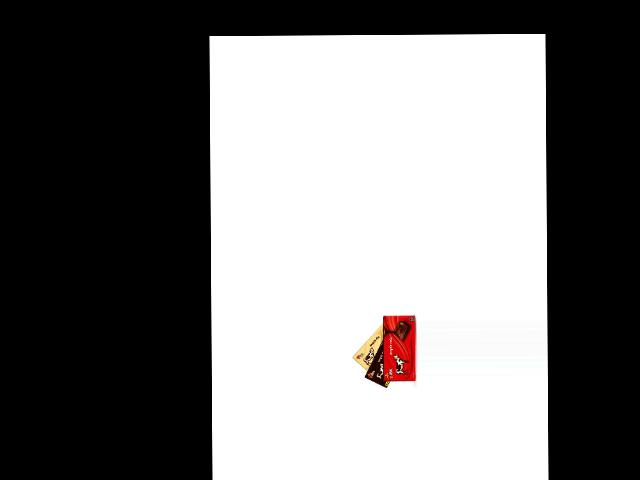chocolate: (351, 317, 389, 378)
